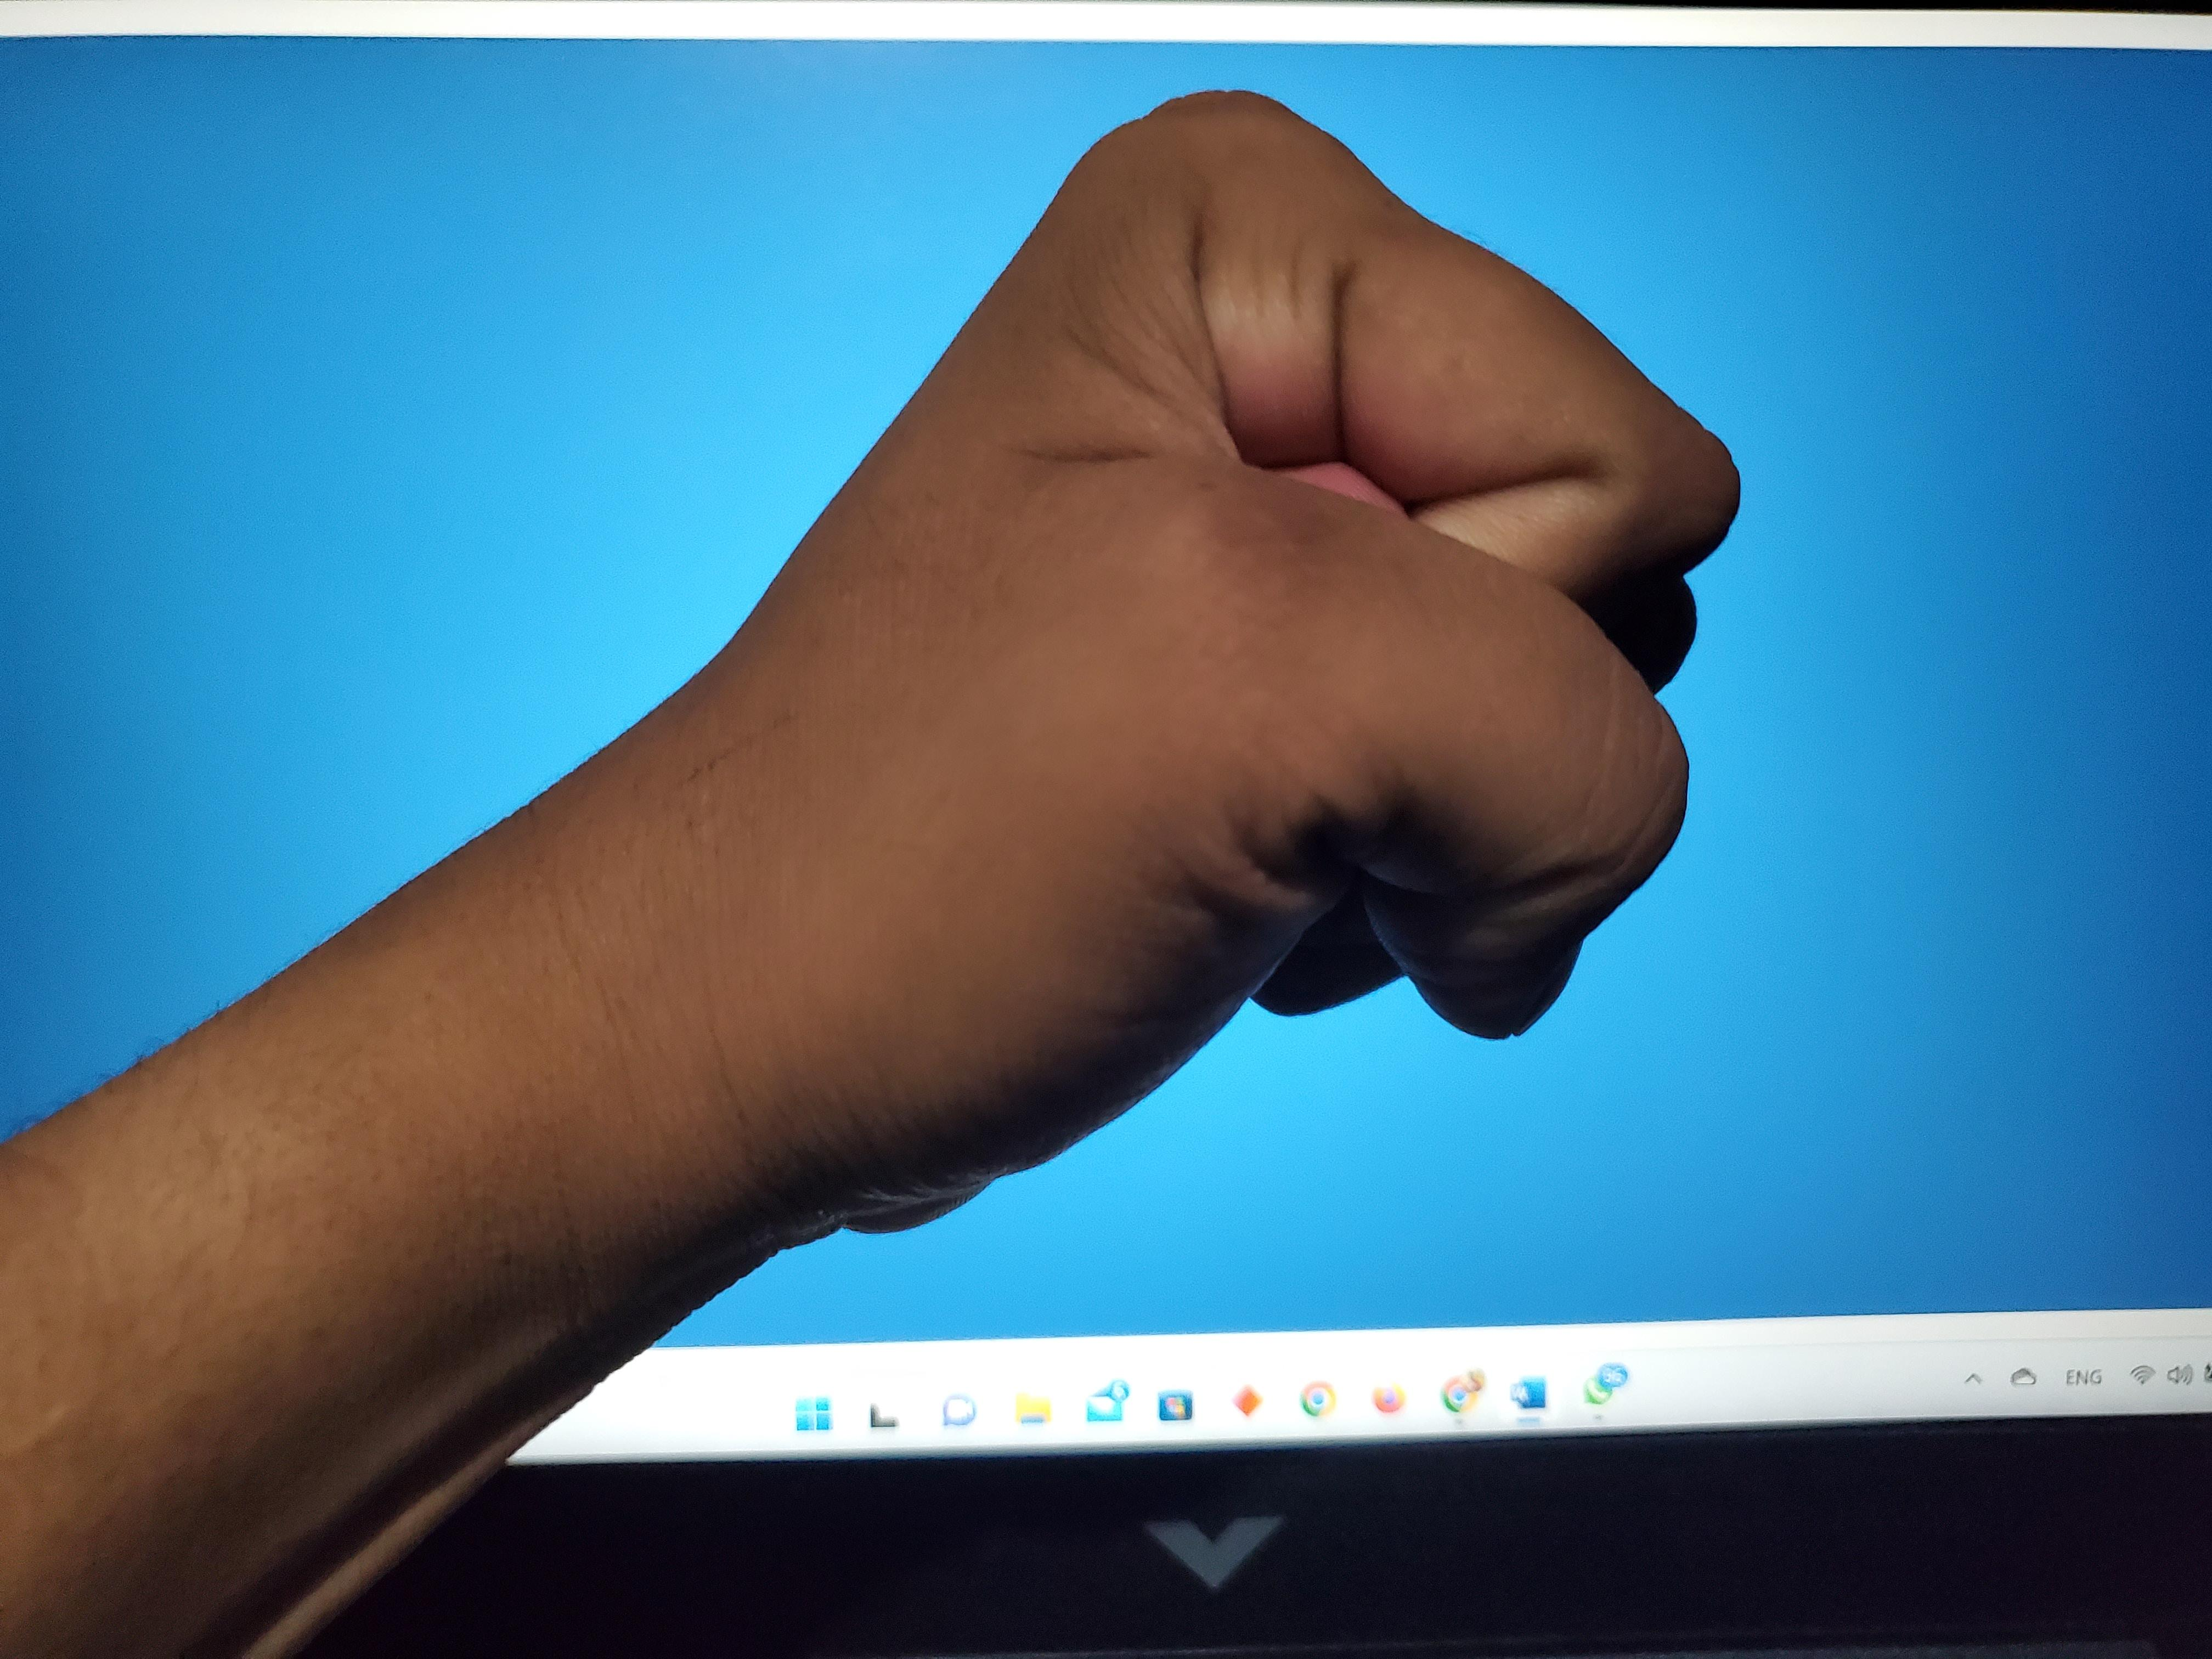Stone: (199, 0, 2142, 1312)
